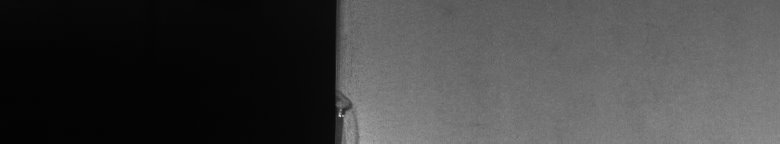hb: (344, 92, 365, 136)
